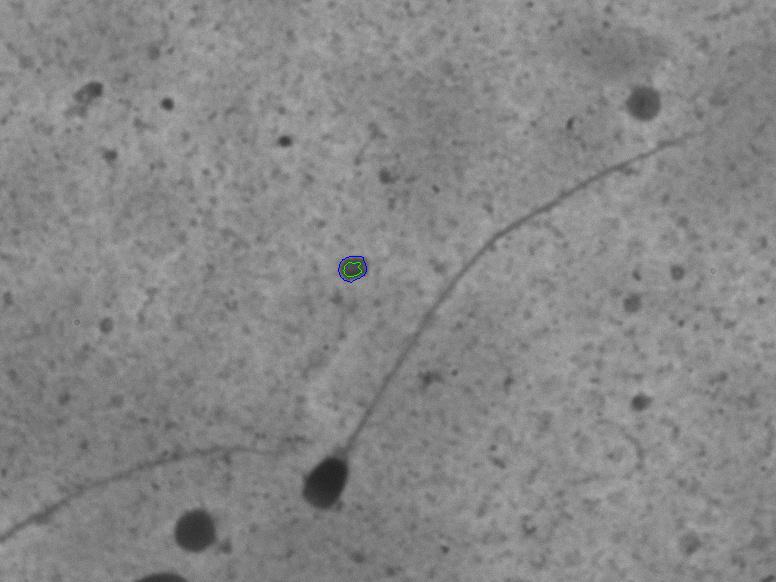Normal: (290, 108, 728, 523)
